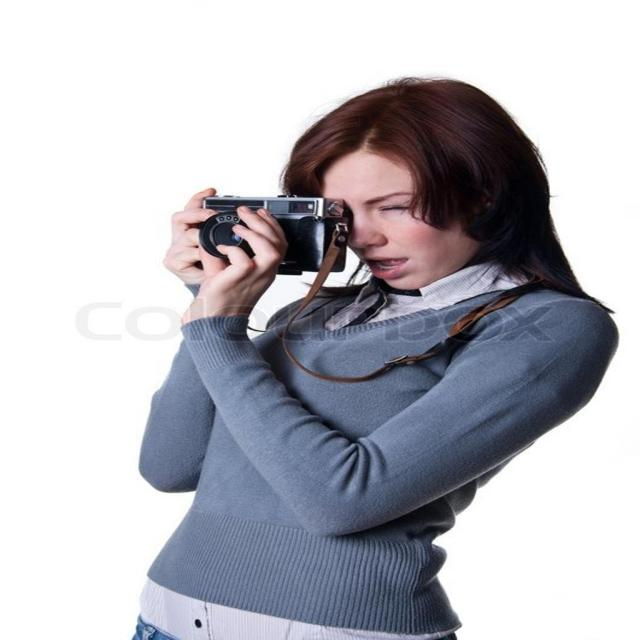nomask: (318, 153, 461, 290)
